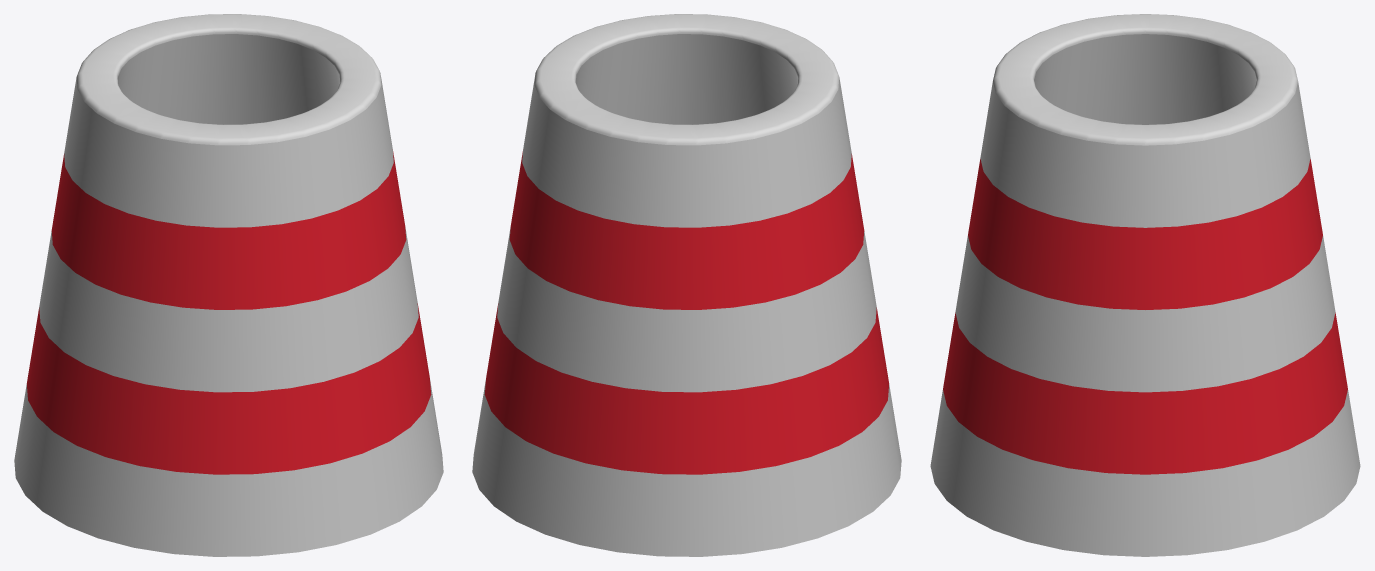
Rendered from Chimney.fbx.
The picture shows the model from 3 angles, left to right: view 1: azimuth 30°, elevation 25°; view 2: azimuth 150°, elevation 25°; view 3: azimuth 270°, elevation 25°; orthographic projection.
Parts seen in each view (by area): view 1: Cylinder; view 2: Cylinder; view 3: Cylinder.
Boxes of the visible parts, box(x1,y1,x2,y2) form: Cylinder: box(14, 14, 443, 556); Cylinder: box(472, 14, 901, 556); Cylinder: box(930, 14, 1360, 556).
Size of the model in its own units: 200 by 200 by 200.
